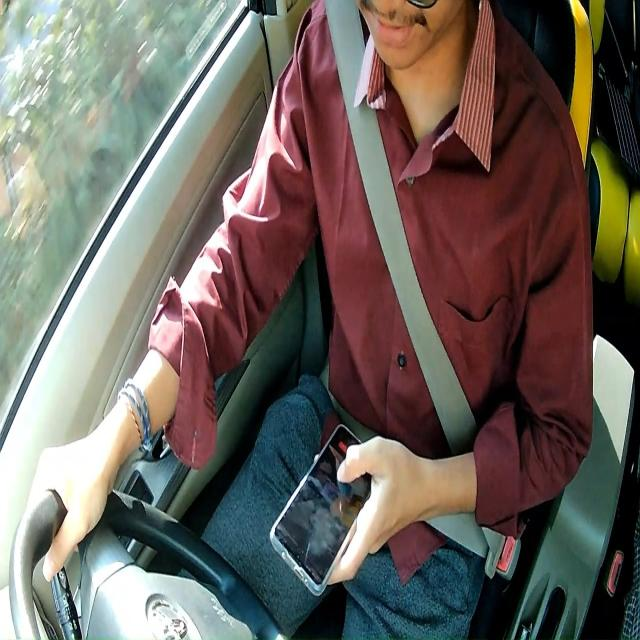phone: (268, 421, 372, 596)
